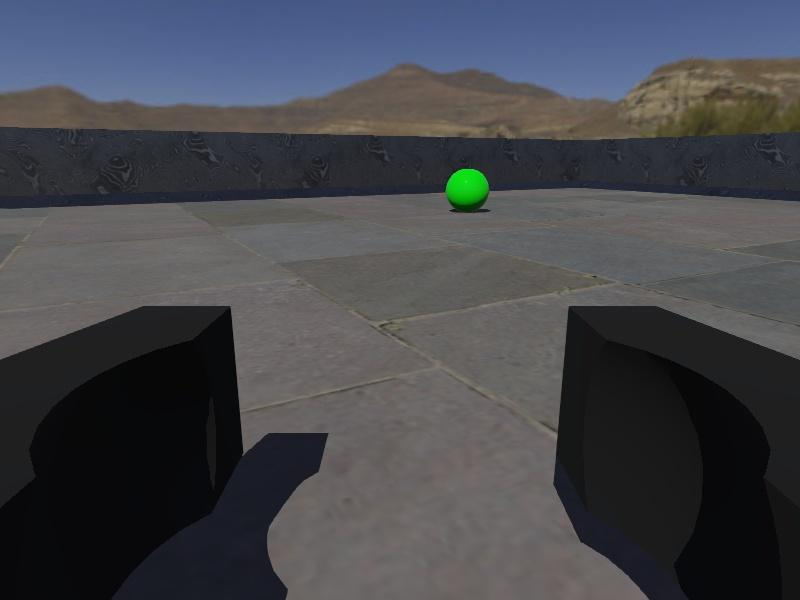green ball: (445, 166, 489, 212)
